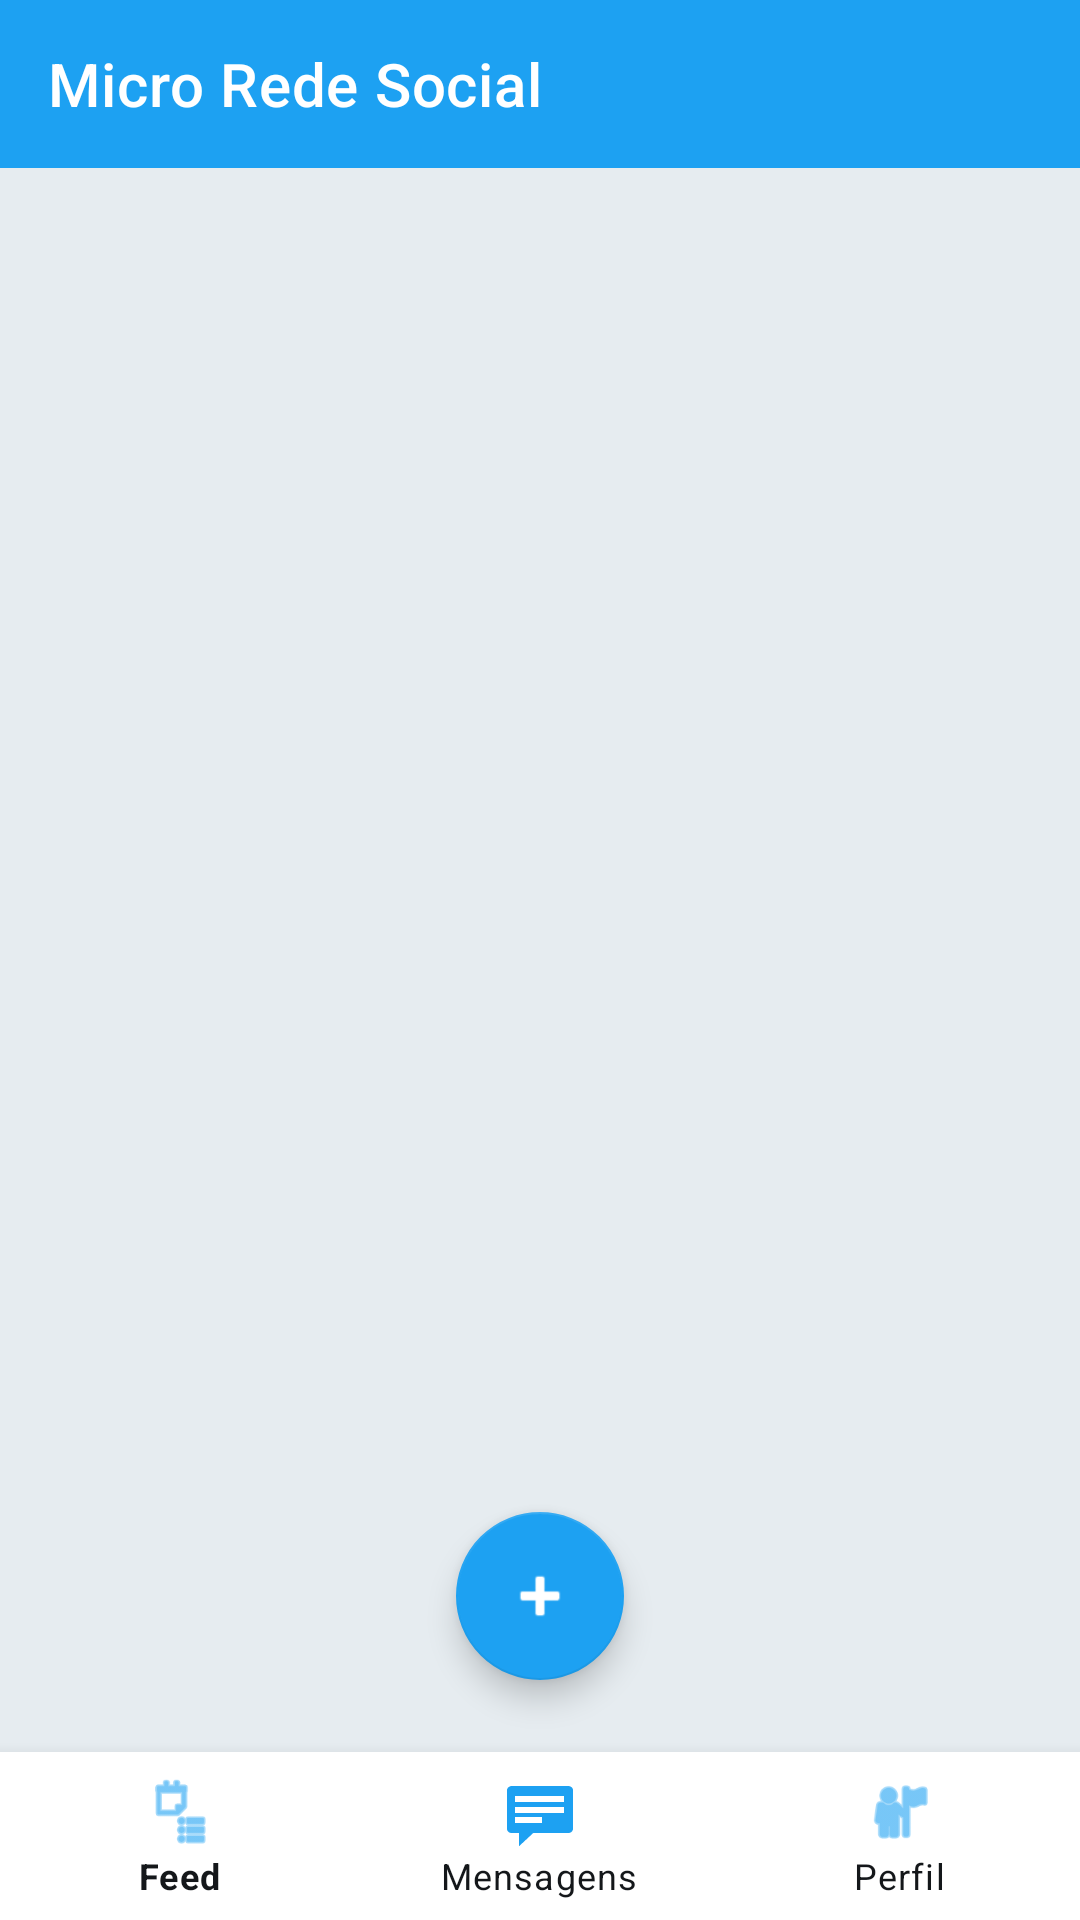

Where to tap for icons on this 1080×1920 app screen, as (x=x, y=y):
add: (x=540, y=1596)
